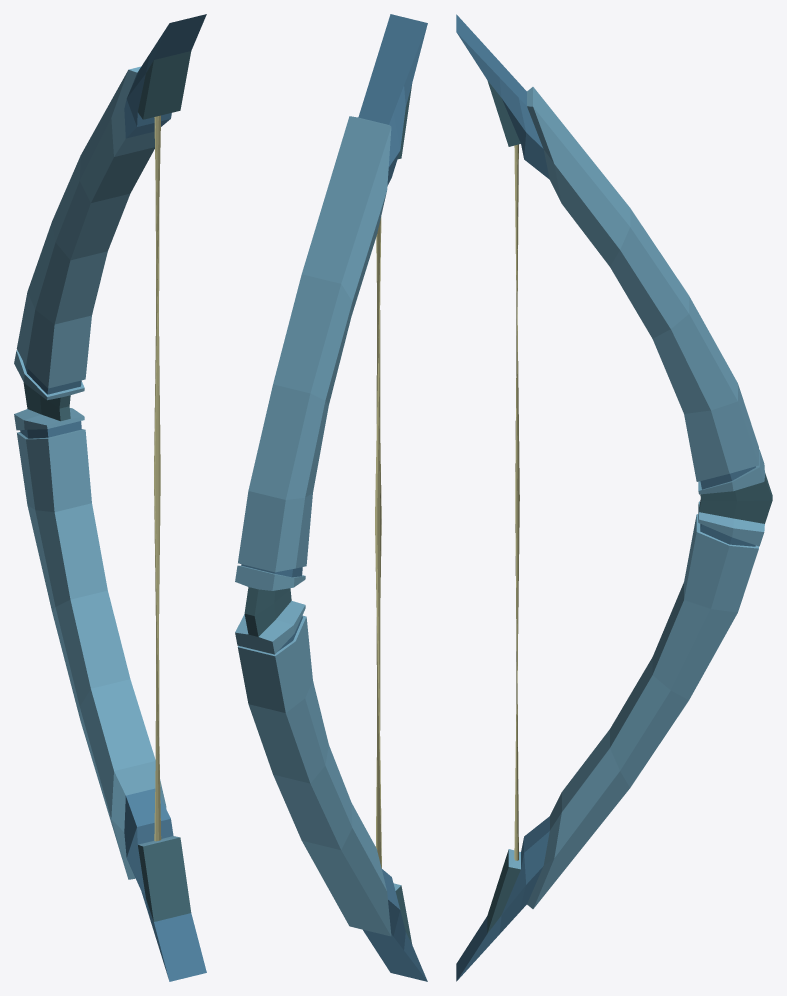
The model's file is bow.fbx.
3 renders of one model, left to right at view 1: azimuth 30°, elevation 25°; view 2: azimuth 150°, elevation 25°; view 3: azimuth 270°, elevation 25°, orthographic.
Parts seen in each view (by area): view 1: Bow; view 2: Bow; view 3: Bow.
Boxes of the visible parts, <box> form: Bow: <box>14,14,206,981</box>; Bow: <box>235,14,427,981</box>; Bow: <box>456,14,772,981</box>.
Bounding box in the file's own units: 3.63 × 60.7 × 18.32.
